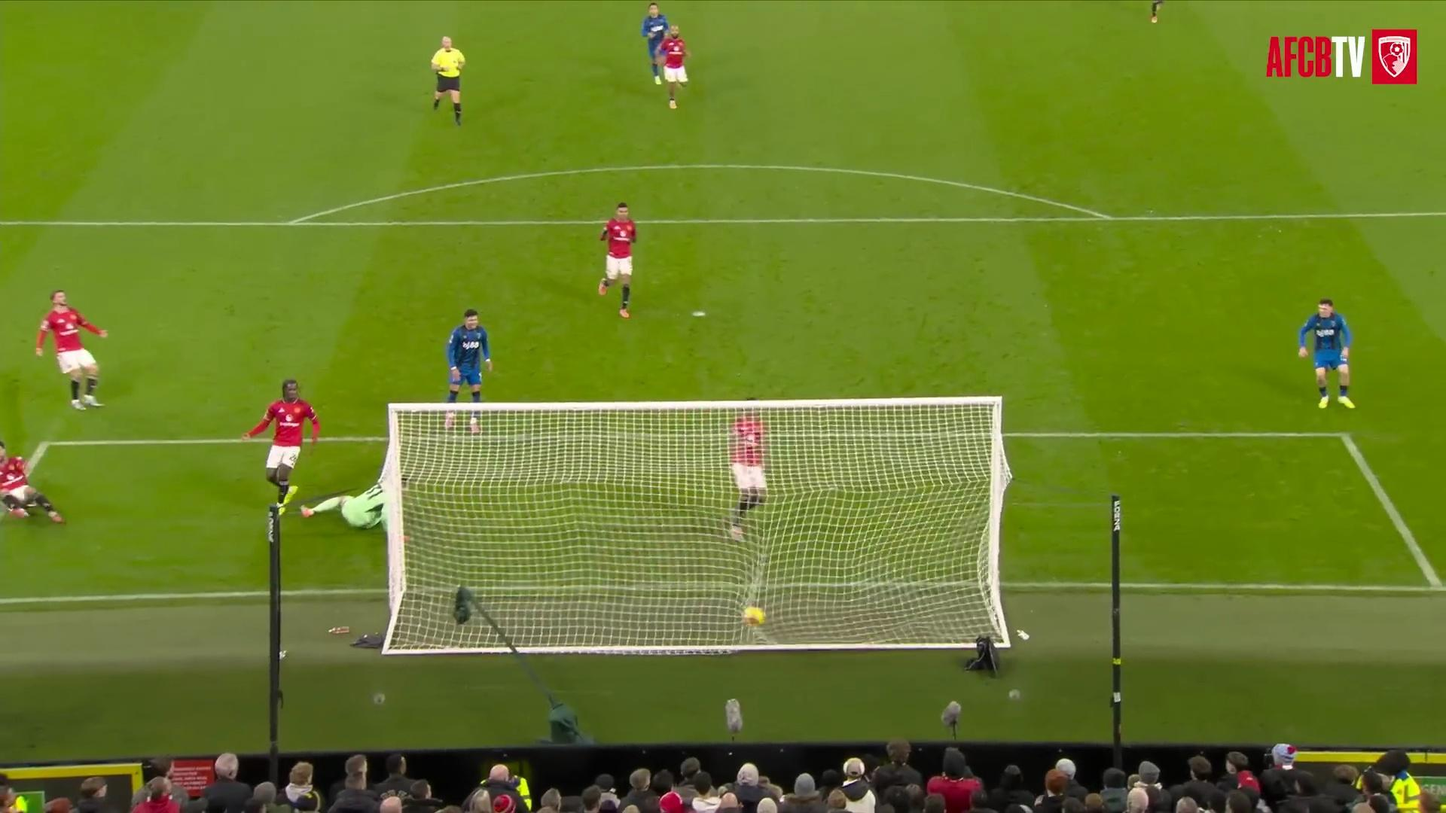football: (743, 606, 765, 626)
player: (242, 379, 319, 510), (35, 290, 107, 409), (1298, 298, 1354, 408), (0, 442, 64, 522), (731, 409, 766, 539), (598, 202, 636, 318), (447, 309, 492, 402), (300, 483, 389, 529), (660, 25, 689, 108), (641, 3, 668, 84), (1151, 0, 1164, 23)
referee: (431, 37, 464, 125)
